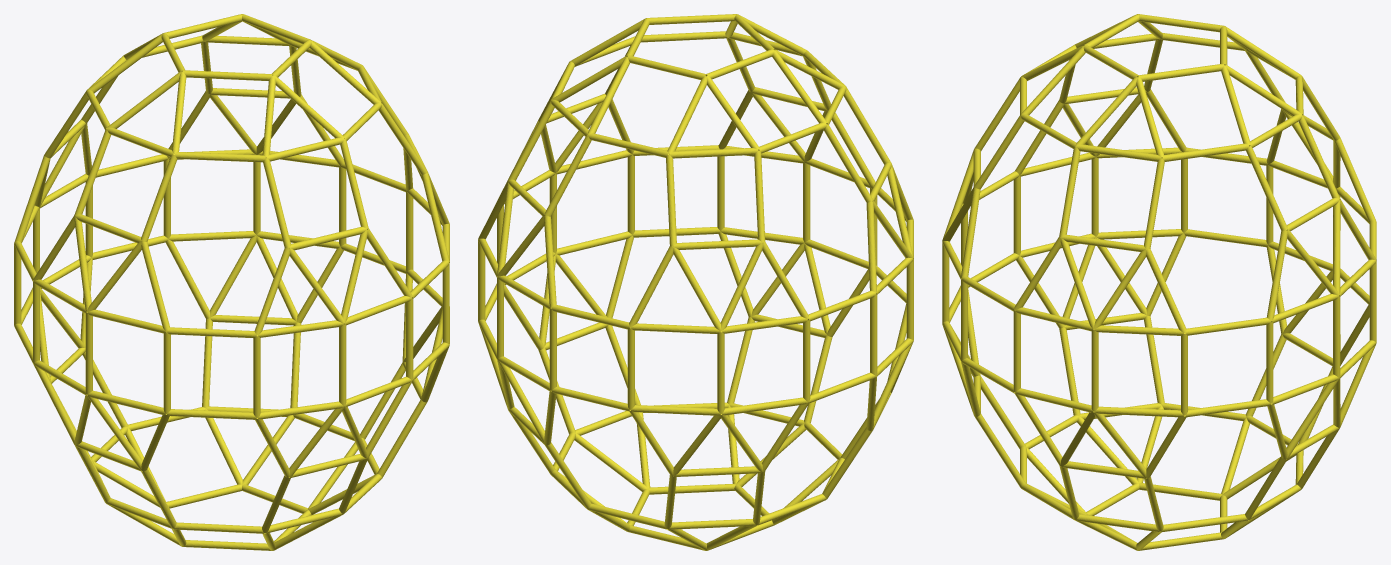
Rendered from trinexus3_1.glb.
The picture shows the model from 3 angles, left to right: view 1: azimuth 30°, elevation 25°; view 2: azimuth 150°, elevation 25°; view 3: azimuth 270°, elevation 25°; orthographic projection.
Visible parts, largest first — view 1: Mesh_73.002; view 2: Mesh_73.002; view 3: Mesh_73.002.
Part boxes in pixels (x1,y1,x2,y2): Mesh_73.002: (14,14,449,550); Mesh_73.002: (478,14,913,550); Mesh_73.002: (942,14,1376,550).
Size of the model in its own units: 7.29 by 8.75 by 7.26.
